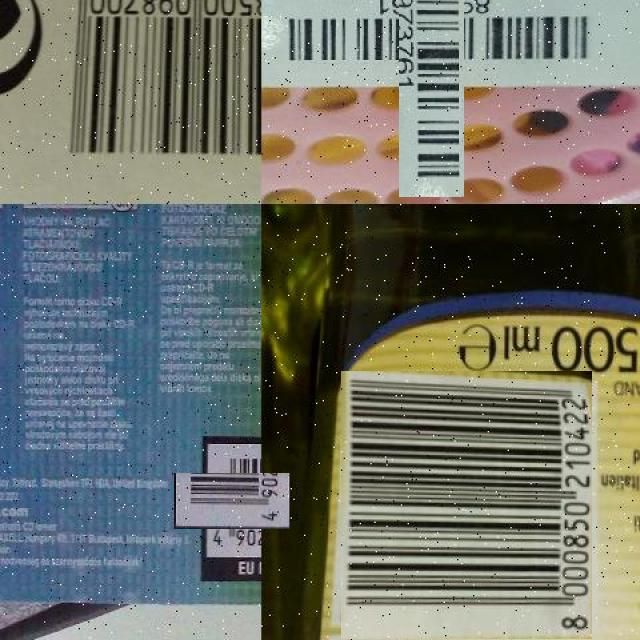Barcode: (336, 376, 597, 636), (48, 0, 261, 175), (333, 0, 530, 131), (189, 457, 276, 544)
